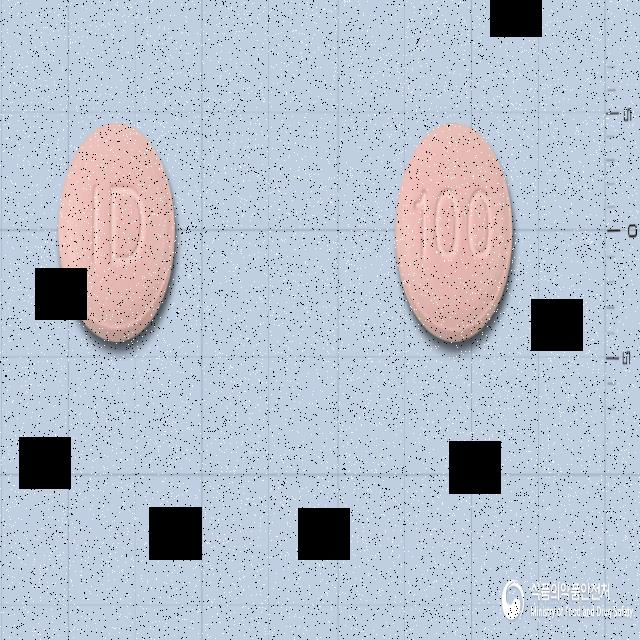Flomox: (58, 121, 177, 343), (395, 122, 514, 343)
